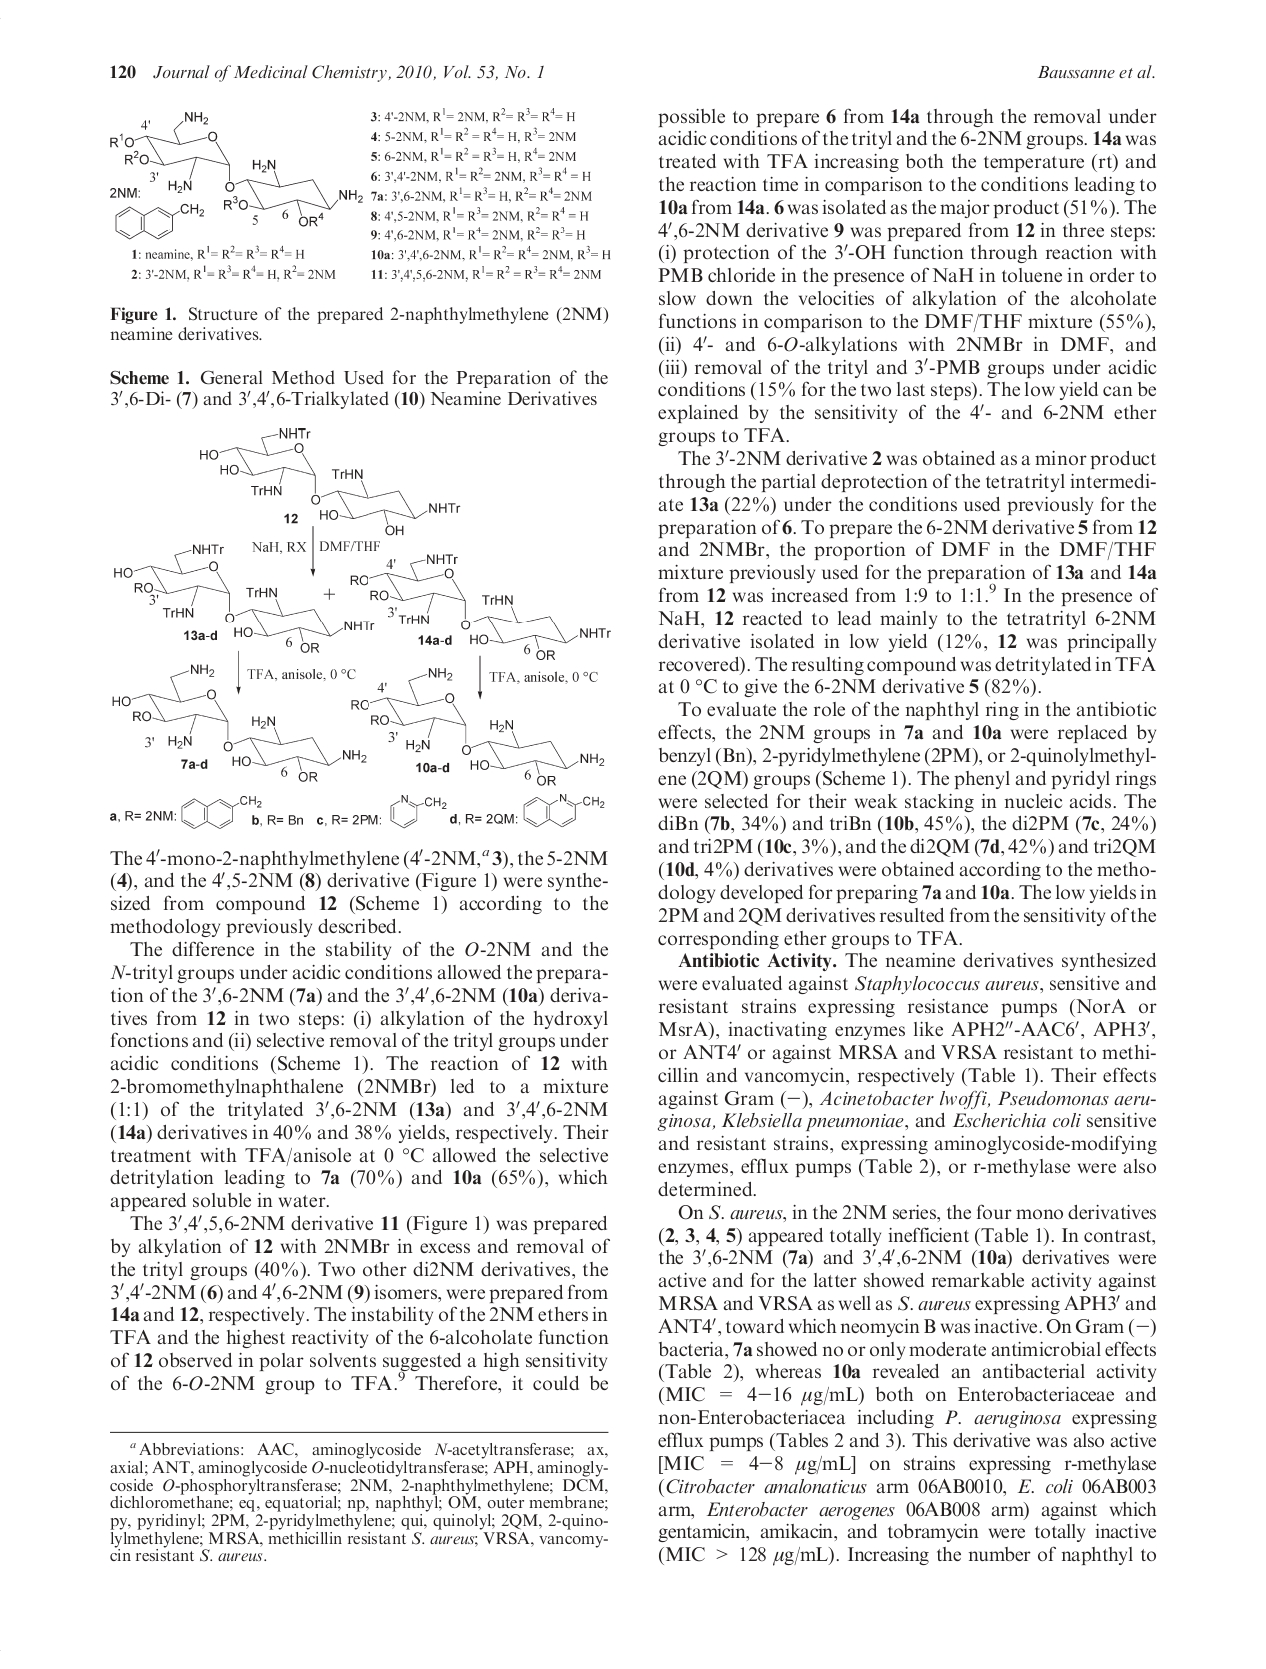exist_molecular: (110, 662, 367, 785), (351, 665, 605, 787), (109, 108, 364, 227), (112, 539, 375, 654), (199, 426, 463, 539), (348, 553, 613, 662), (113, 199, 205, 239), (177, 791, 262, 830), (521, 793, 606, 829), (388, 793, 445, 827)
